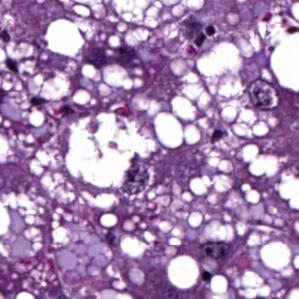ballooning: (106, 3, 208, 33)
